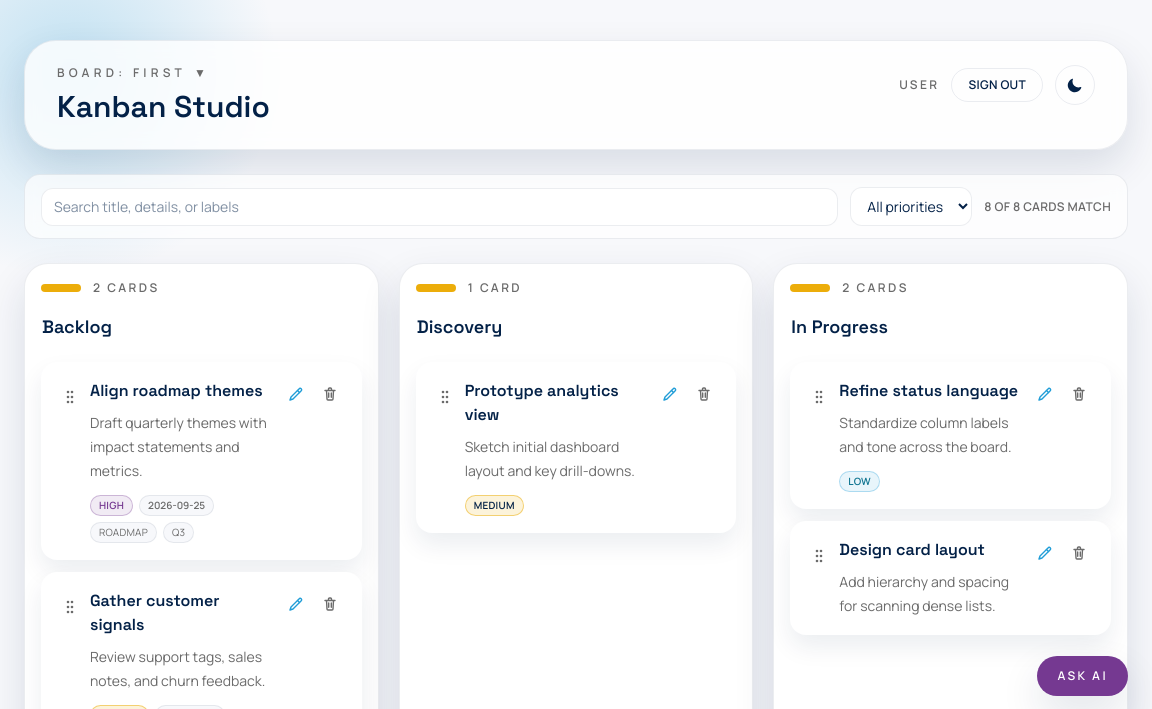
it: Workspace › renames a board in place
Click the button with test id "board-switcher". click: (134, 73)
box: [57,65,210,81]
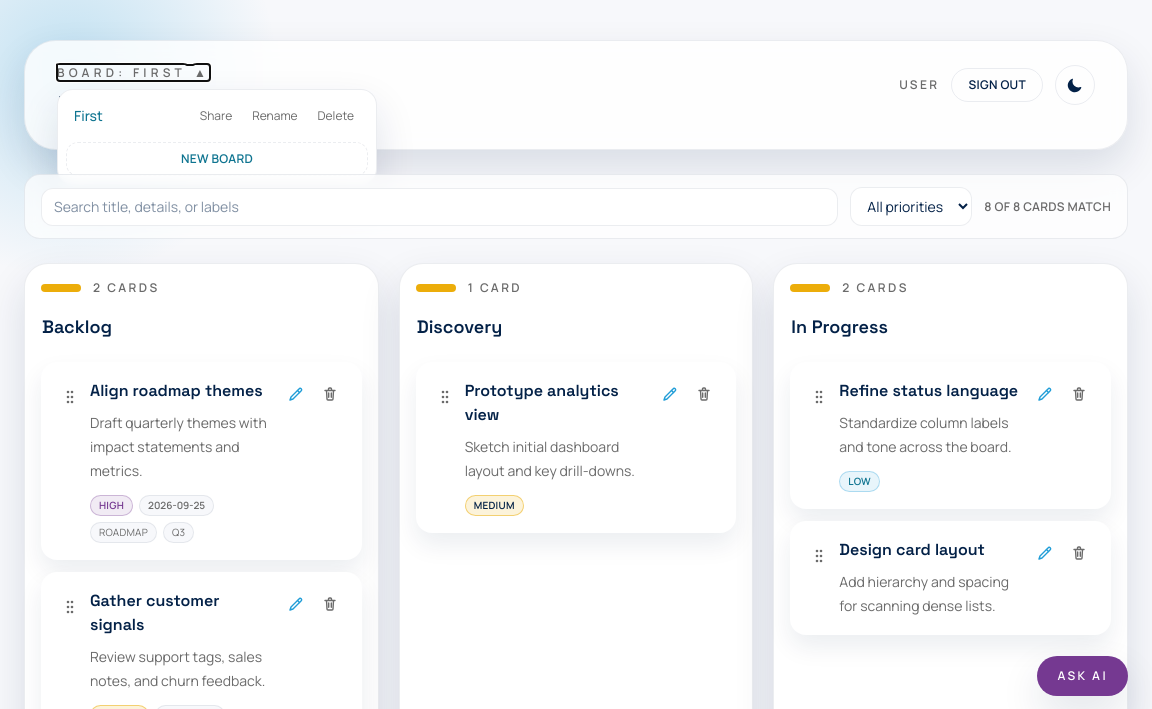
Click the button with aria-label "Rename First". click: (275, 116)
box: [246,104,304,128]
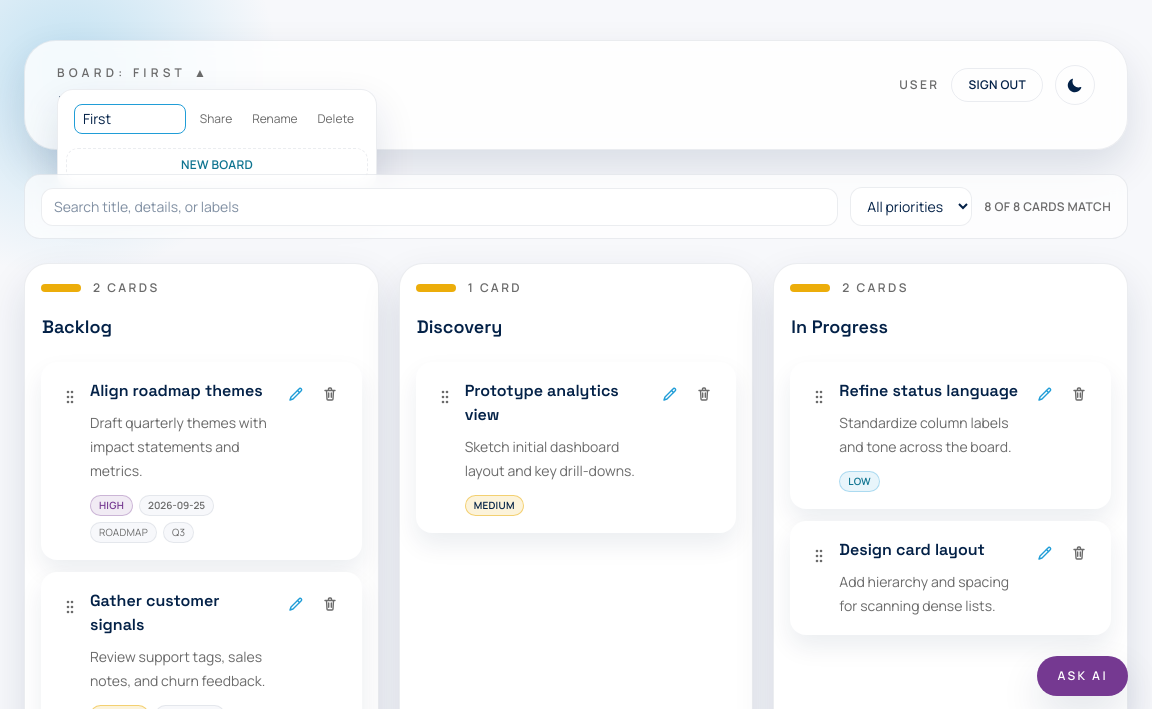
Replace the text in the field named "New name for First" with "Renamed". click: (130, 119)
box: [74,104,186,134]
Then press Enter
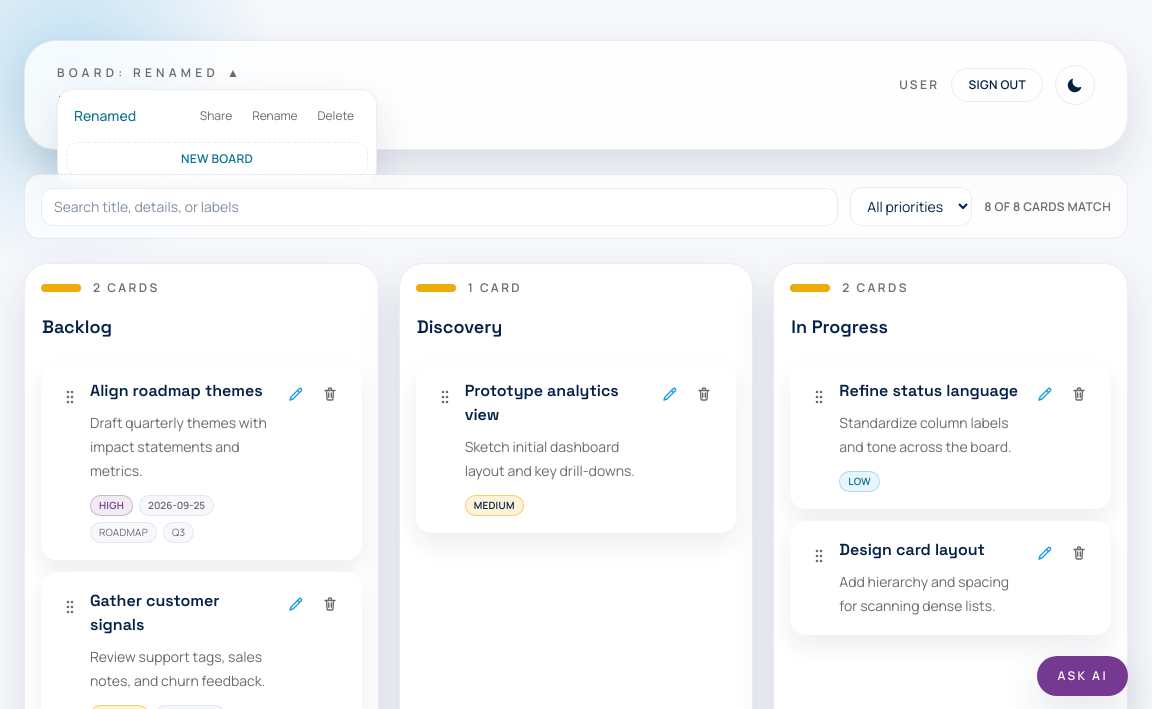
Expected: the button with test id "board-switcher" shows "Renamed", [57,65,243,81]
